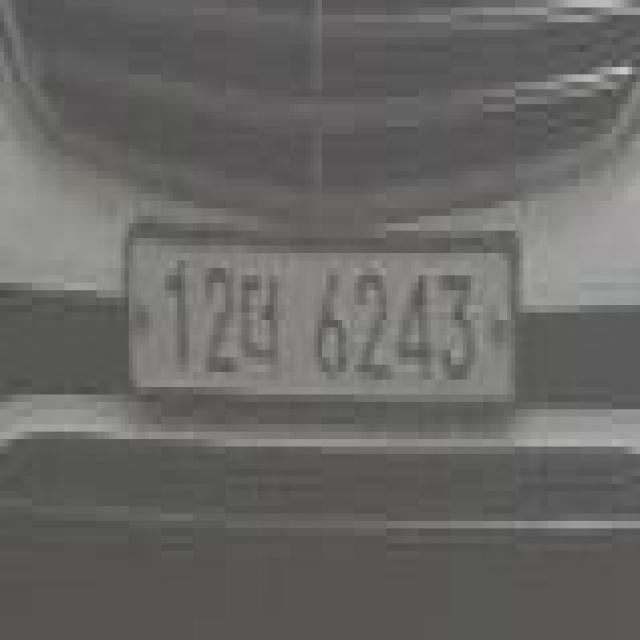1: (157, 253, 197, 380)
2: (354, 260, 395, 402), (201, 253, 242, 394)
3: (431, 260, 479, 387)
4: (398, 268, 434, 402)
6: (314, 260, 350, 394)
deo: (237, 253, 286, 394)
license_plate: (117, 216, 523, 417)
